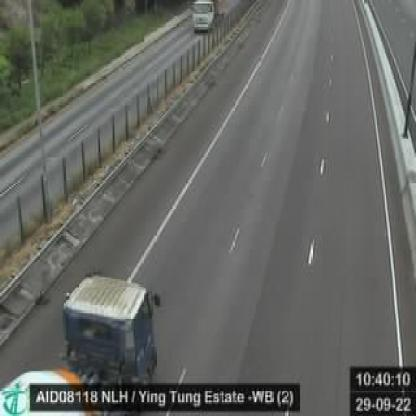Truck: (0, 274, 173, 414), (188, 0, 228, 38)
